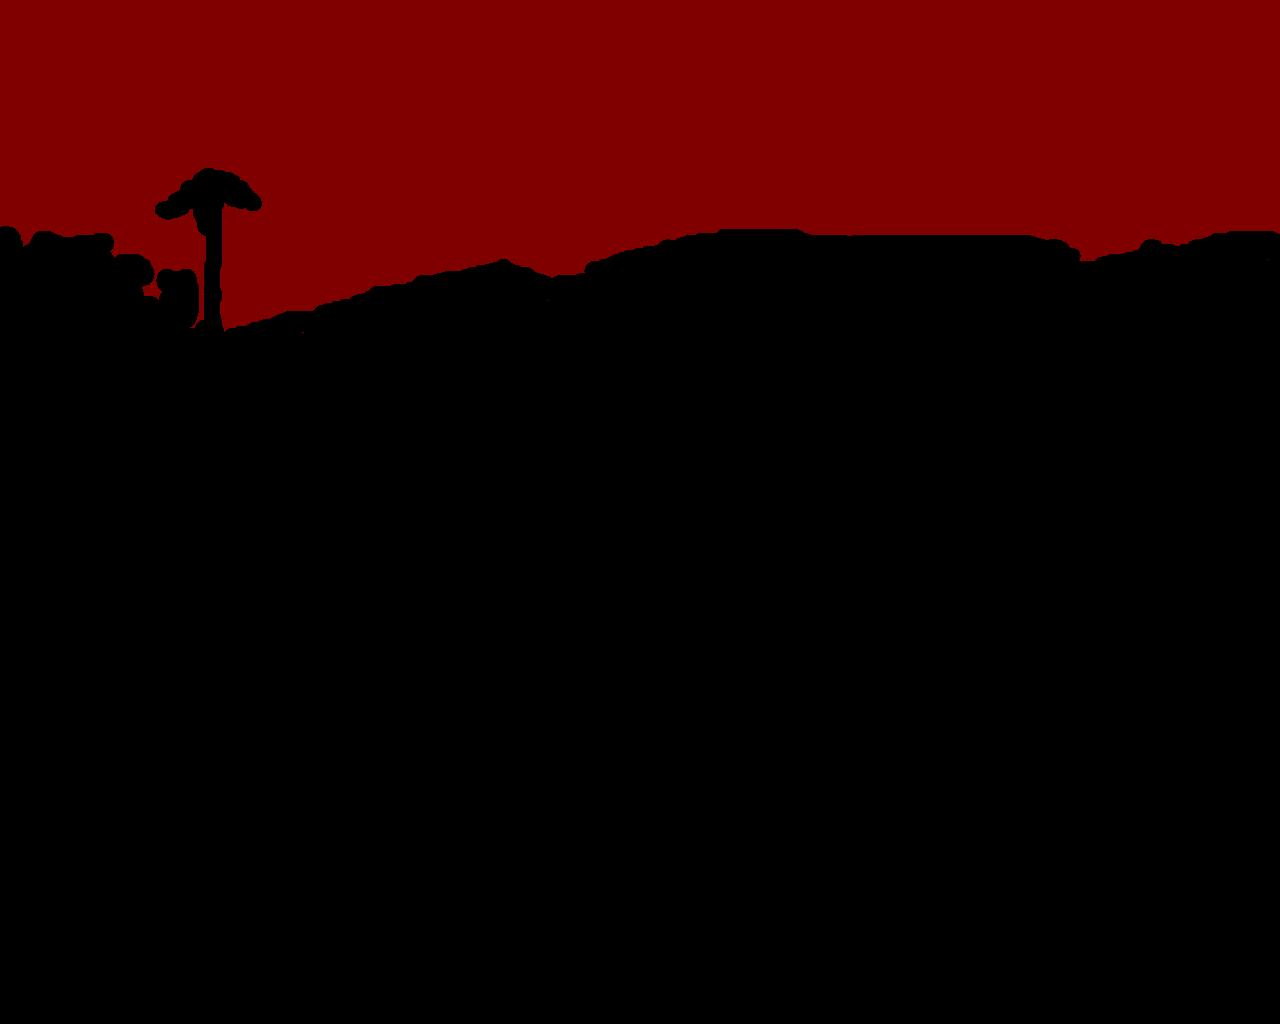Sky: (1, 1, 1279, 333)
